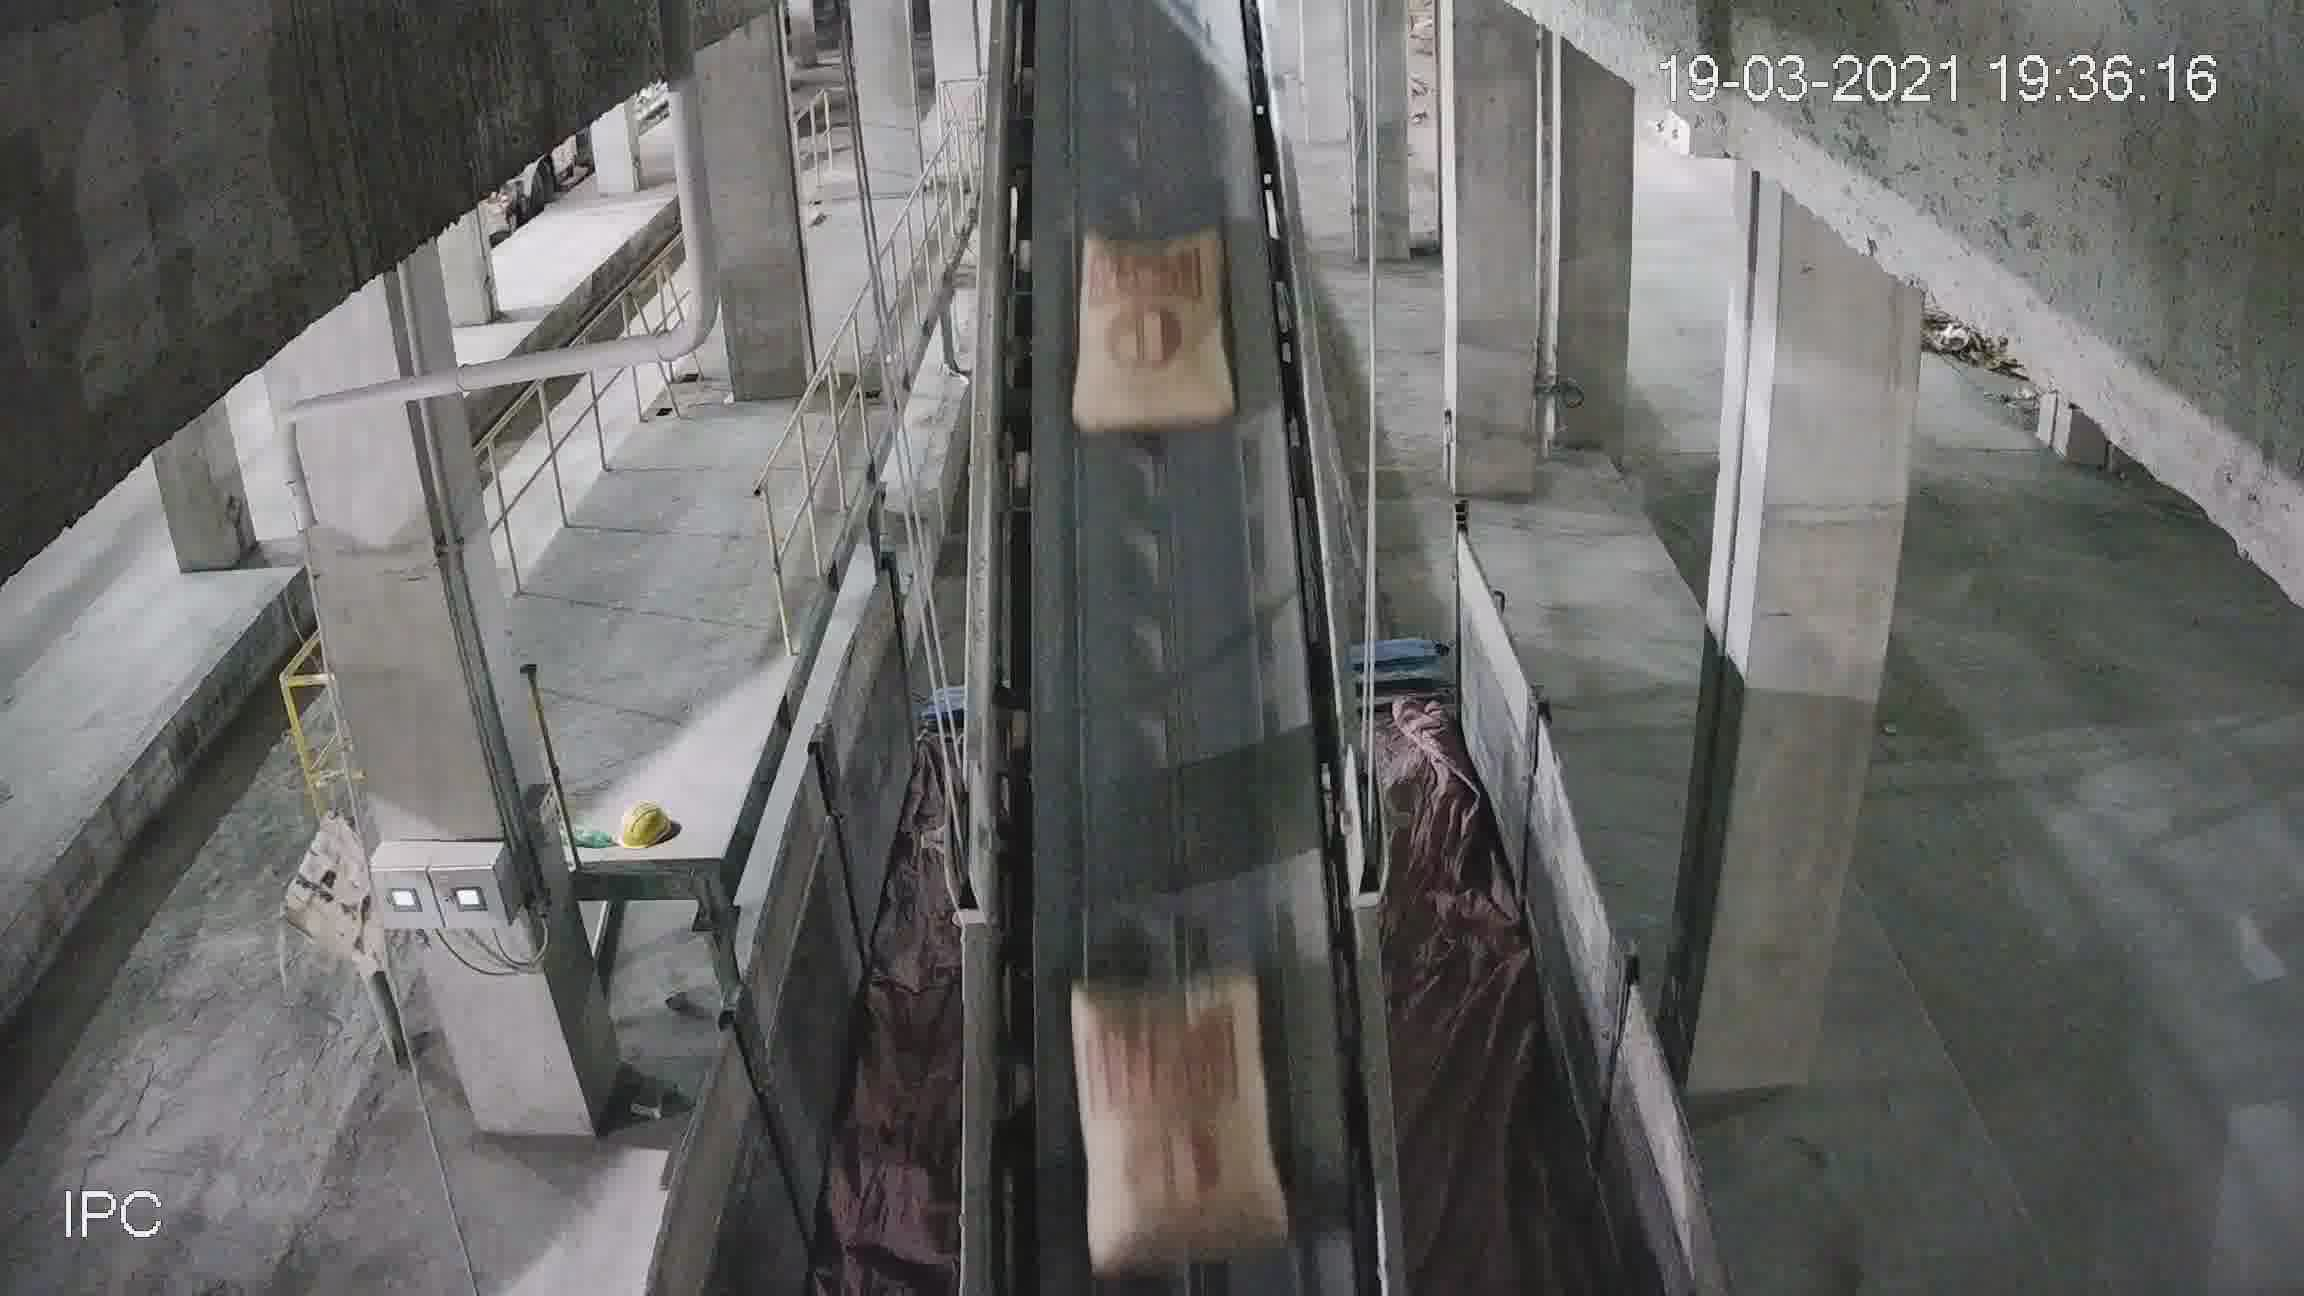bag: (1071, 968, 1269, 1263), (1076, 233, 1225, 432)
belt: (967, 104, 1386, 1294)
